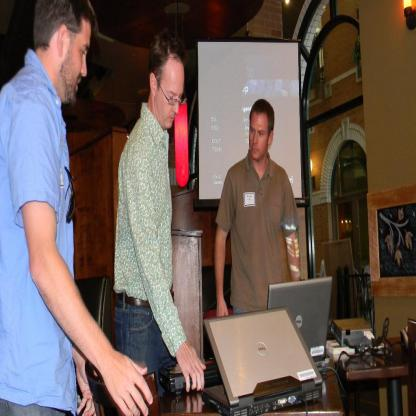board: (202, 288, 325, 405), (268, 278, 333, 367)
